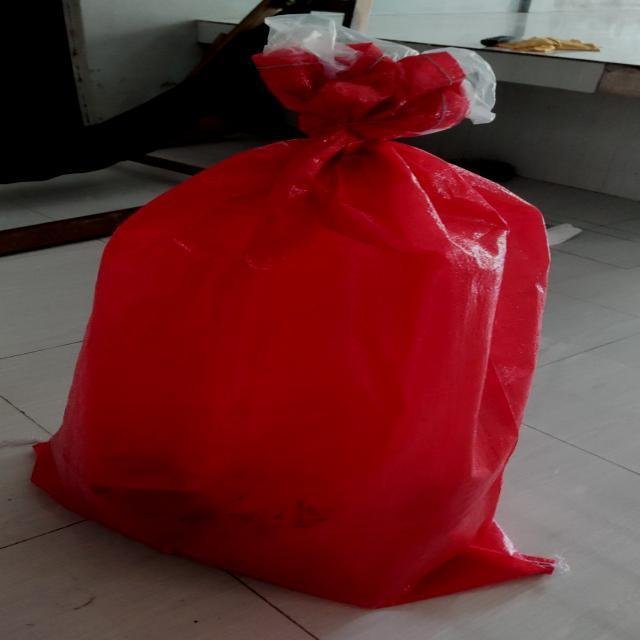gunny_bag: (32, 14, 555, 609)
